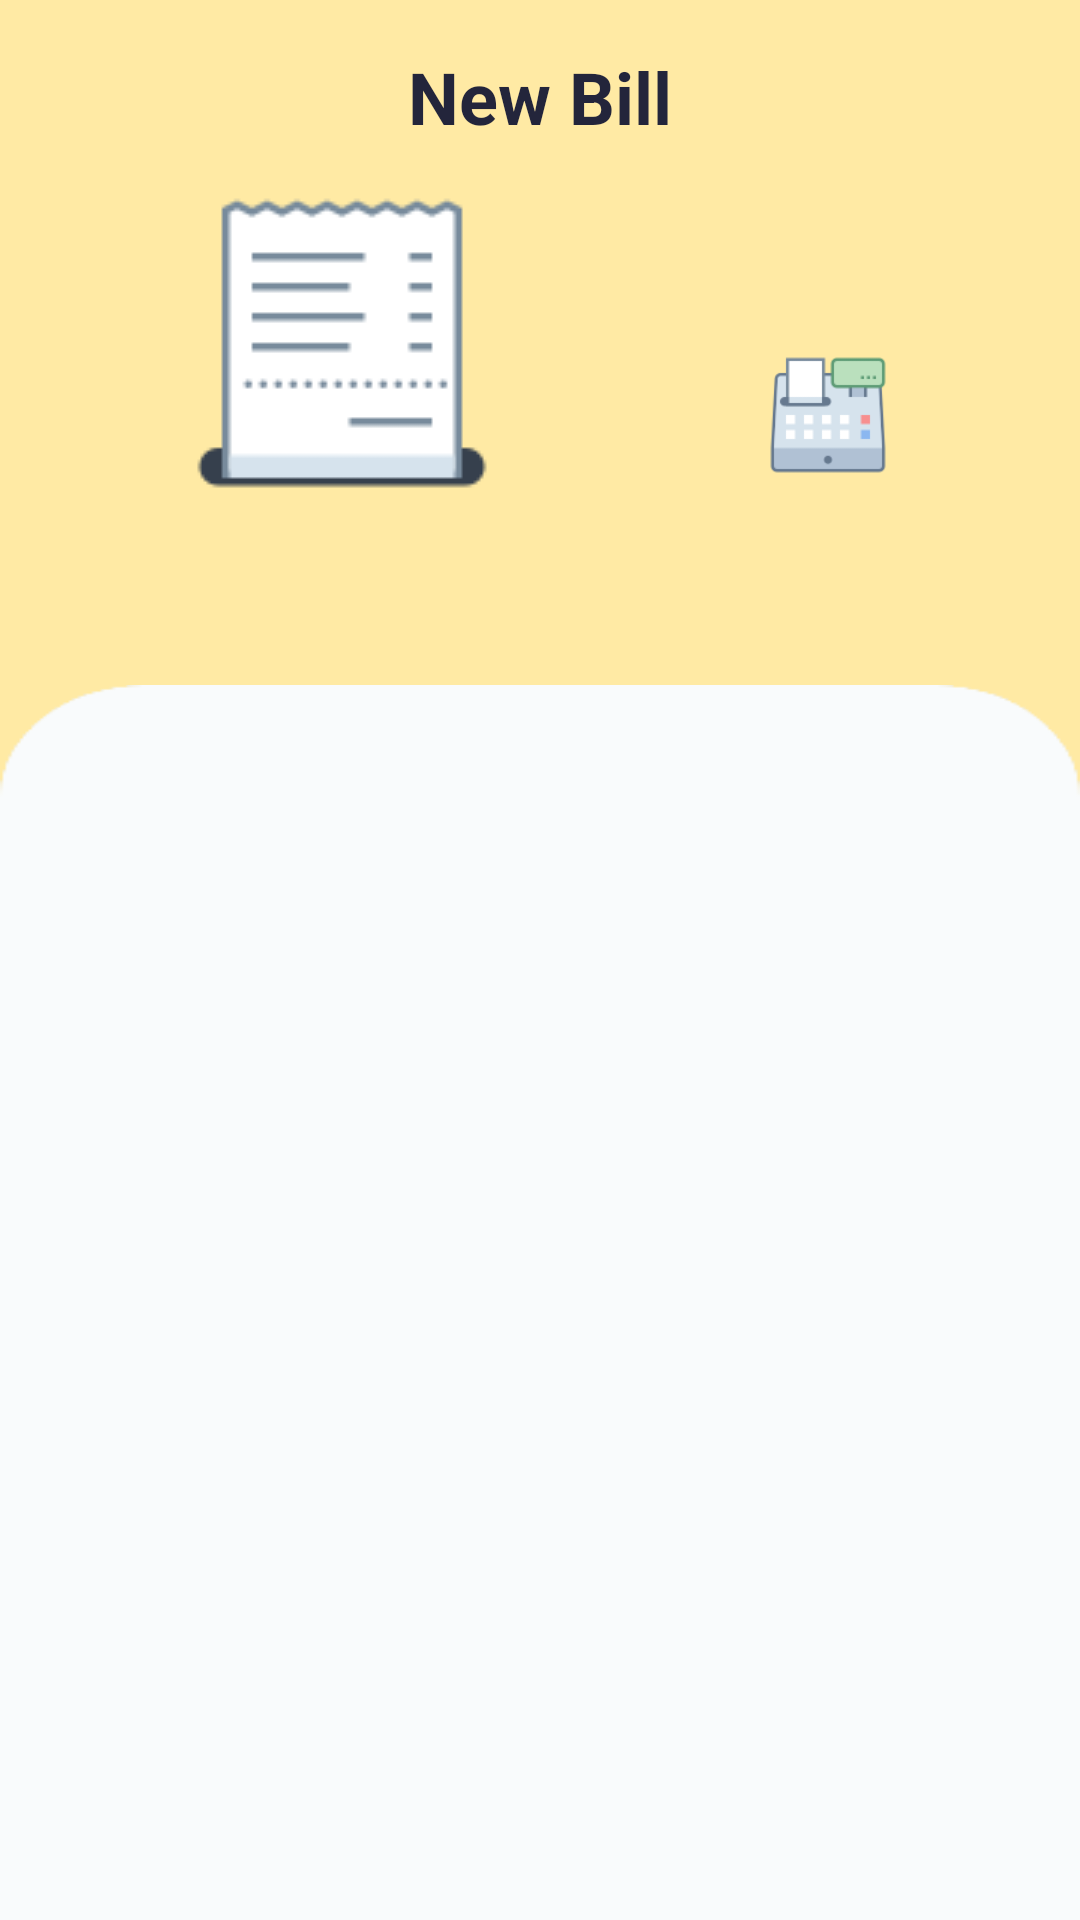

Icon click points for this 1080×1920 phone screenshot, format [x,y]:
cash register: [828,415]
